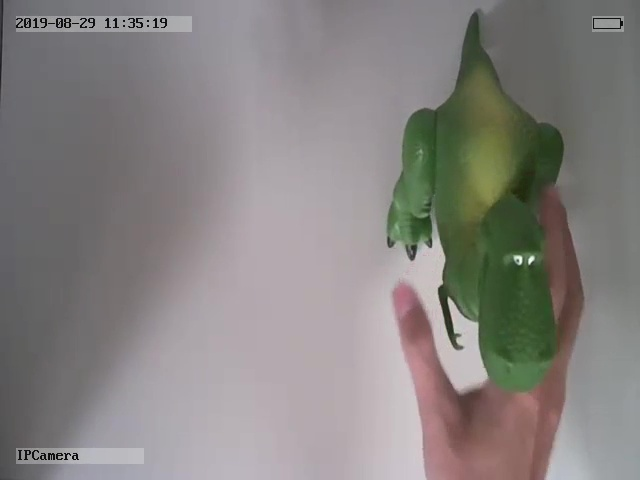rex: (382, 12, 562, 393)
